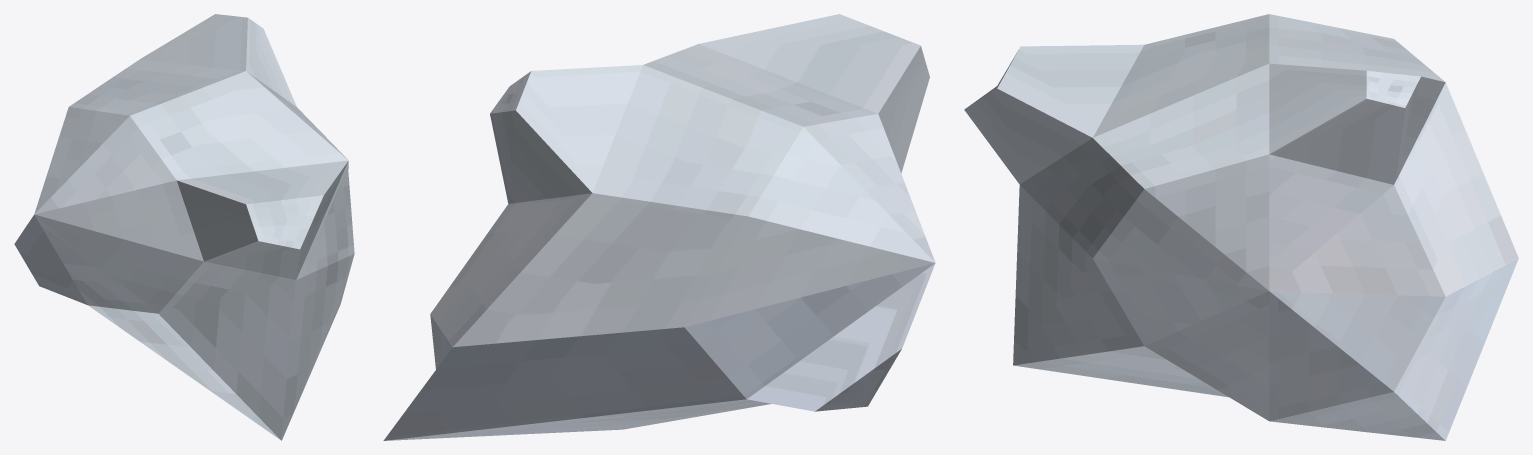
File: SM_BinPaper.fbx
3 views of the same model, side by side, from view 1: azimuth 30°, elevation 25°; view 2: azimuth 150°, elevation 25°; view 3: azimuth 270°, elevation 25° (orthographic). The views are drawn at different scales.
Parts seen in each view (by area): view 1: SM_BinPaper; view 2: SM_BinPaper; view 3: SM_BinPaper.
Boxes of the visible parts, left/top/right/bottom form: SM_BinPaper: left=14, top=14, right=354, bottom=440; SM_BinPaper: left=383, top=14, right=935, bottom=440; SM_BinPaper: left=964, top=14, right=1518, bottom=440.
Size of the model in its own units: 12.12 by 10.29 by 14.35.
1 material, 1 textured.
